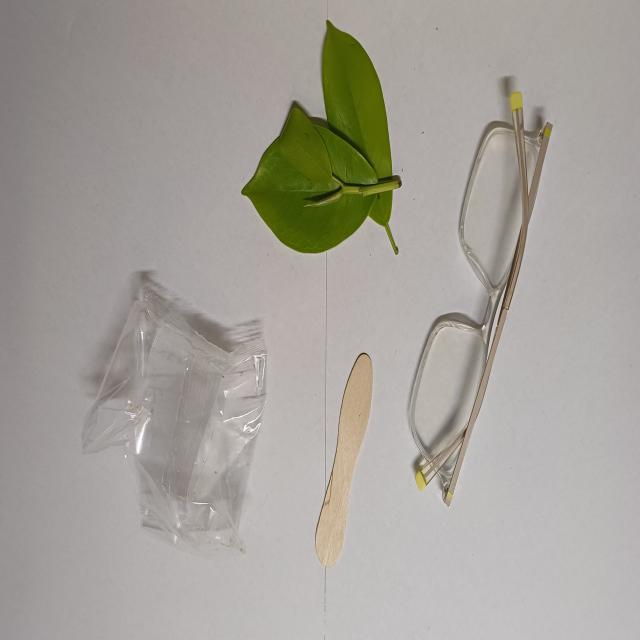Leaf-Bio: (242, 16, 403, 261)
Plastic-NonBio: (78, 274, 268, 562)
Spectacles-NonBio: (405, 86, 555, 509)
Wooden Spoon-Bio: (316, 343, 374, 572)
